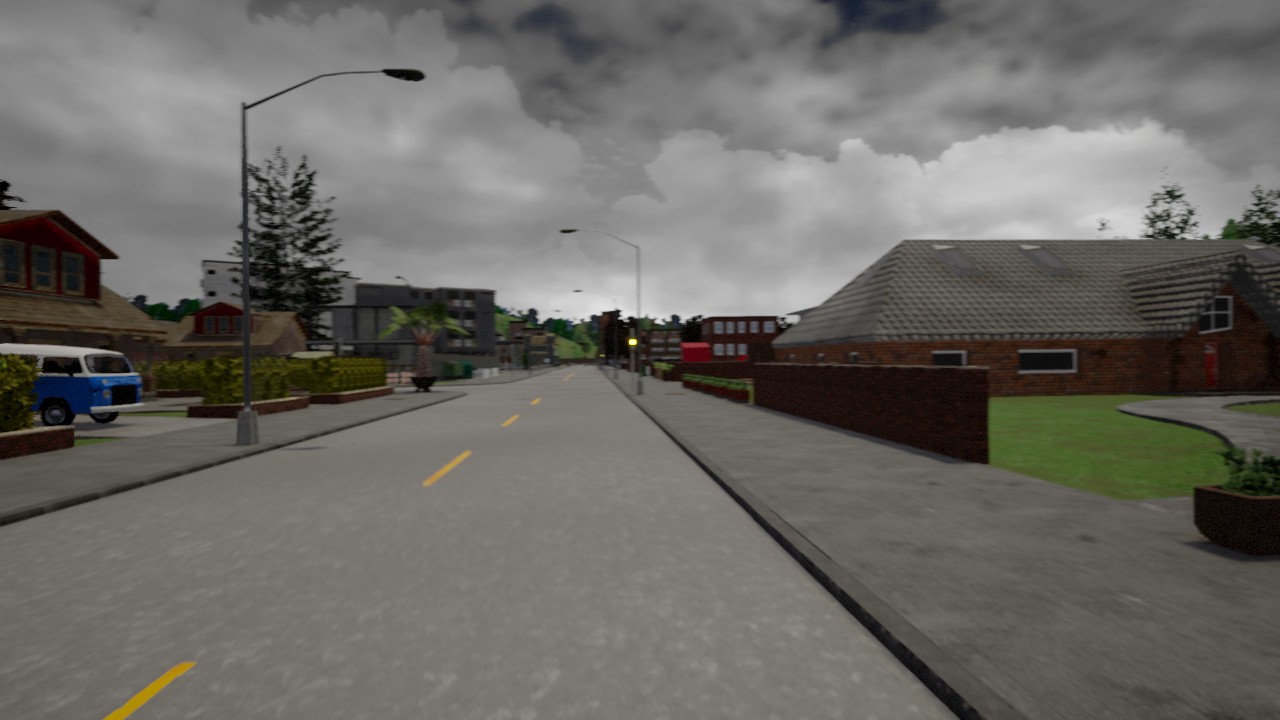yellow: (626, 331, 637, 353)
